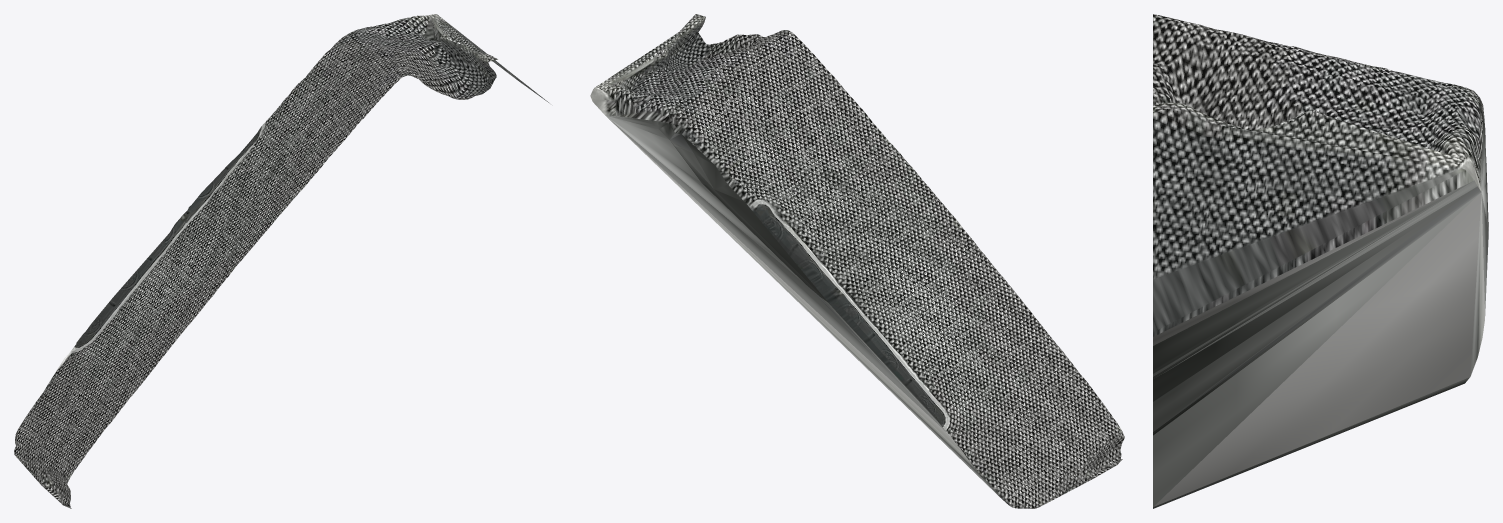
Rendered from Objeto_3D_Texturizado.glb.
The picture shows the model from 3 angles, left to right: view 1: azimuth 30°, elevation 25°; view 2: azimuth 150°, elevation 25°; view 3: azimuth 270°, elevation 25°; orthographic projection. The views are drawn at different scales.
Bounding box in the file's own units: 19.97 × 13.59 × 6.21.
Materials: 1 (1 with a texture image).
